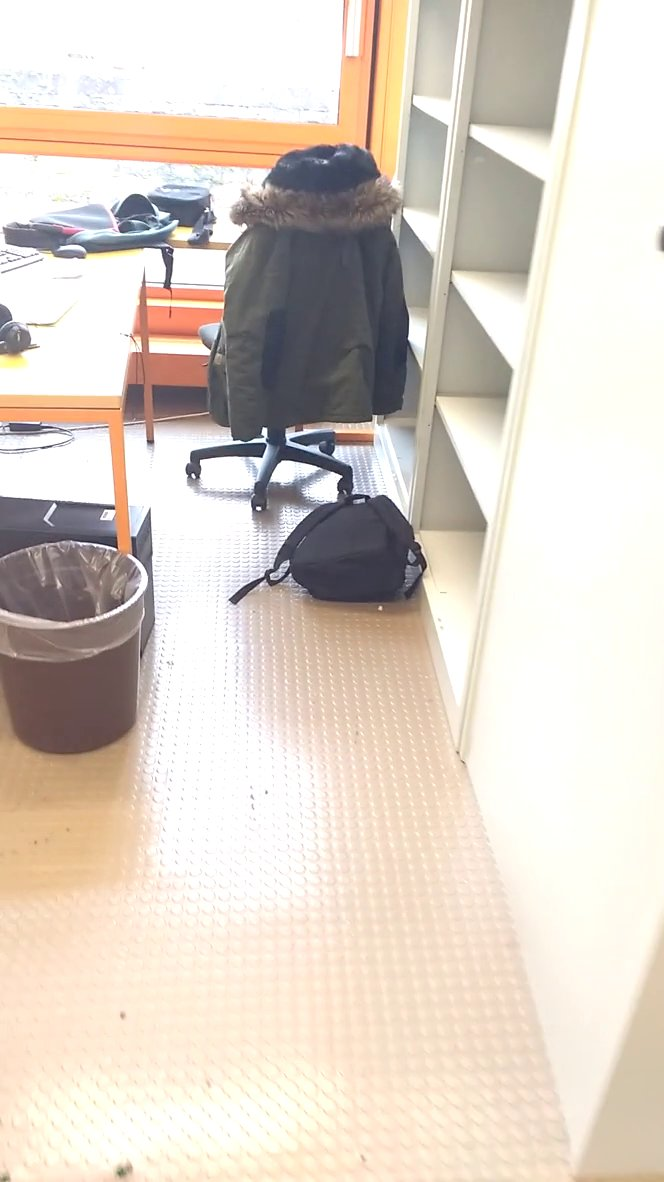bag: (225, 472, 443, 612)
bin: (1, 520, 157, 762)
